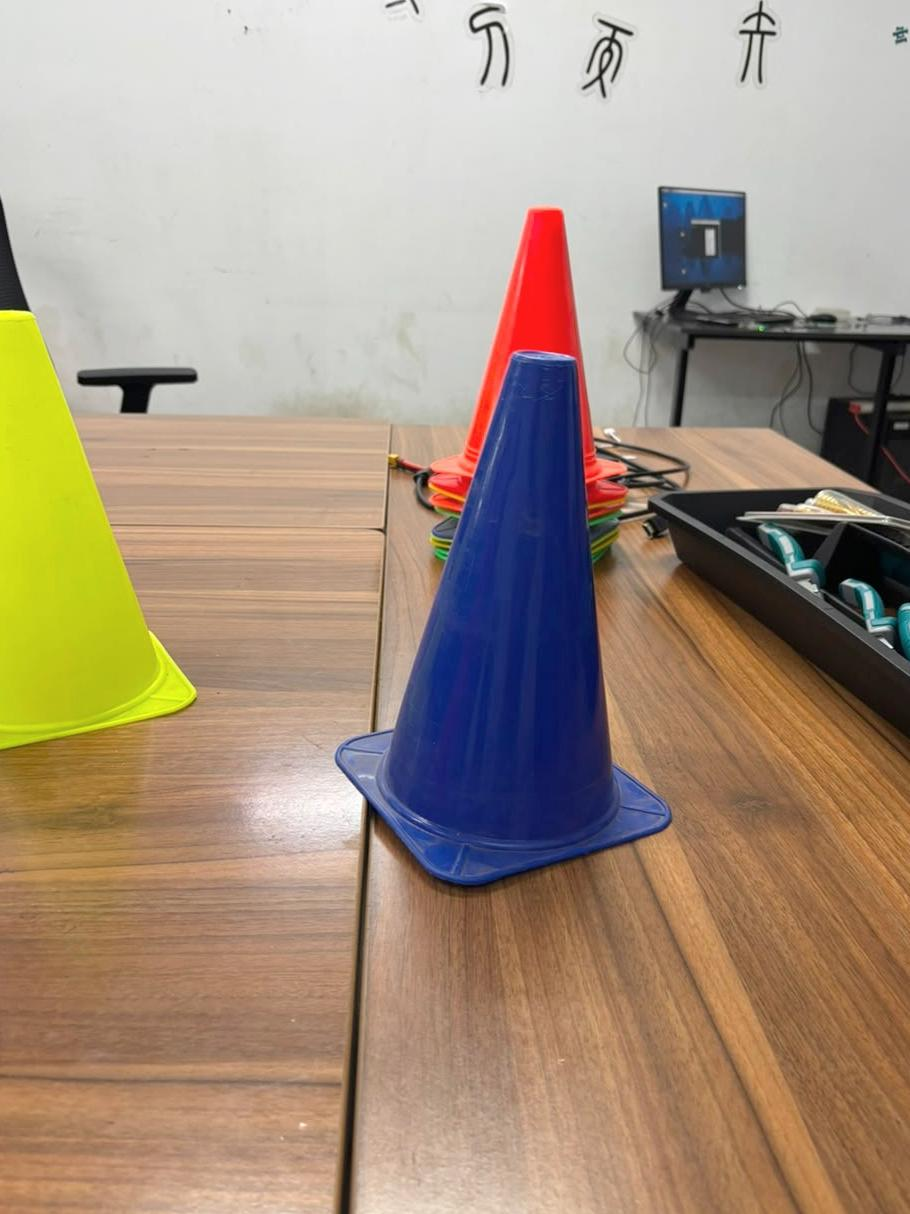0 cone: (335, 350, 670, 885), (0, 311, 195, 746), (429, 207, 626, 541)
